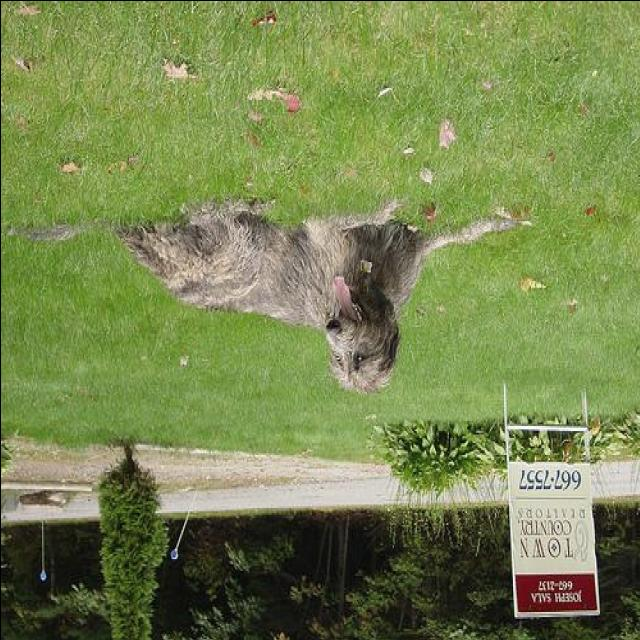irish_wolfhound: (8, 188, 532, 396)
